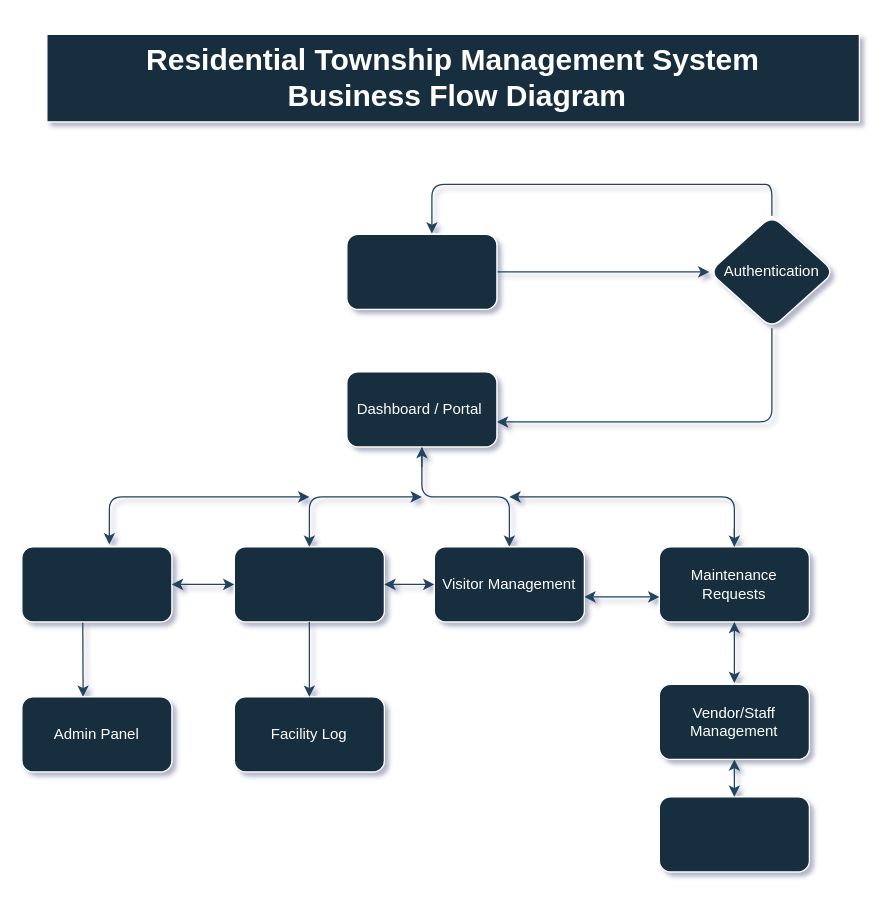
Some shapes in this 889 by 901 pixel diagram are drawn without their labels. The box of each missing label's shape, as (x1, y1, x2, y2) in pixels:
Complaint Management: (21, 546, 172, 622)
Facility Booking: (233, 546, 384, 622)
Financial Management: (658, 796, 809, 872)
Resident: (346, 233, 497, 309)
